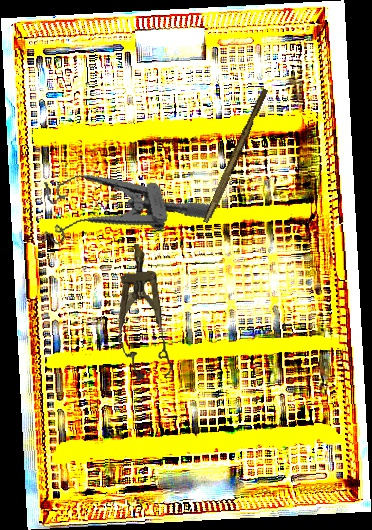Scalpel Handle: (202, 86, 270, 226)
Speculum: (28, 144, 215, 259), (110, 241, 176, 383)
